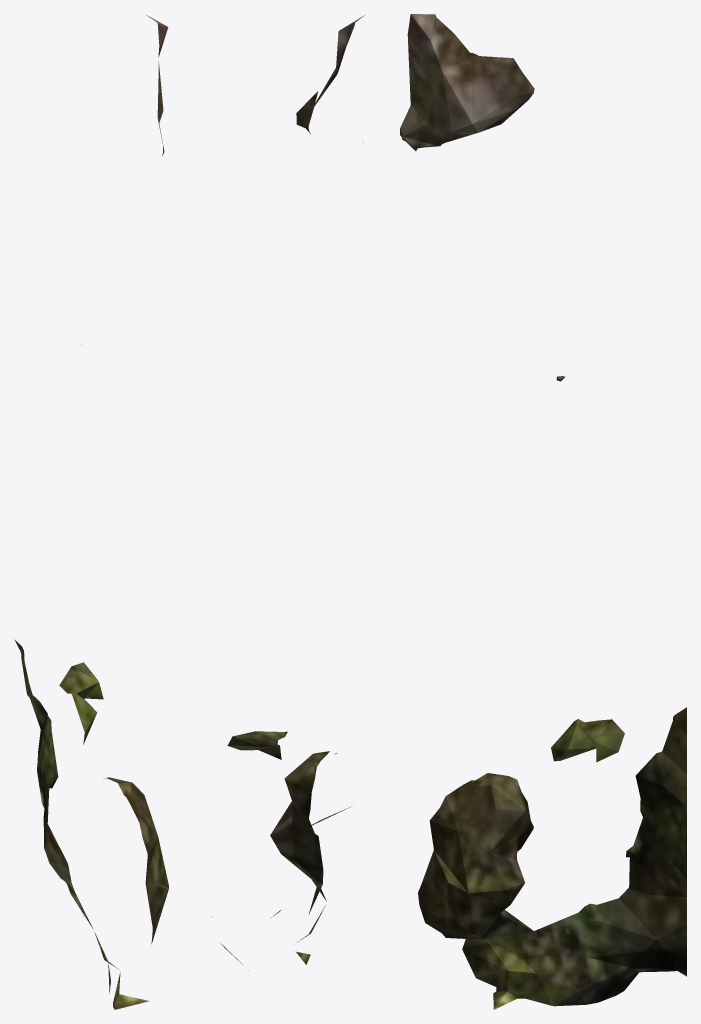
3 views of the same model, side by side, from view 1: azimuth 30°, elevation 25°; view 2: azimuth 150°, elevation 25°; view 3: azimuth 270°, elevation 25° (orthographic). The views are drawn at different scales.
Bounding box in the file's own units: 0.1677 × 3.2 × 0.8481.
Materials: 1 (1 with a texture image).
